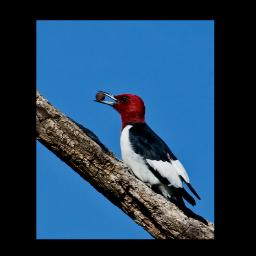Woodpecker: (92, 88, 203, 210)
